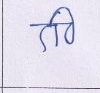i_matra: (57, 6, 78, 45)
